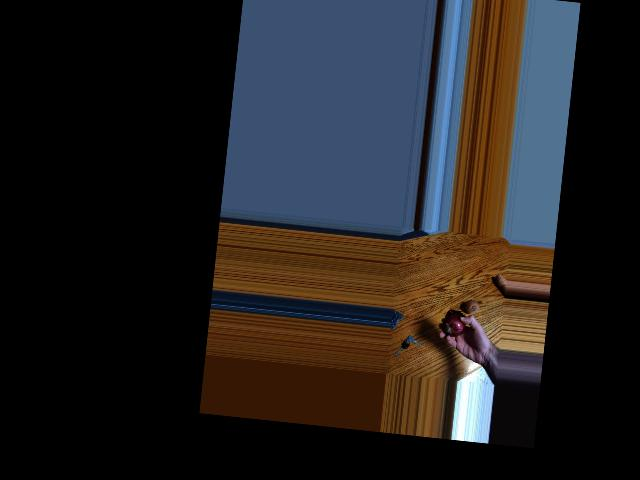onion: (441, 313, 465, 337)
